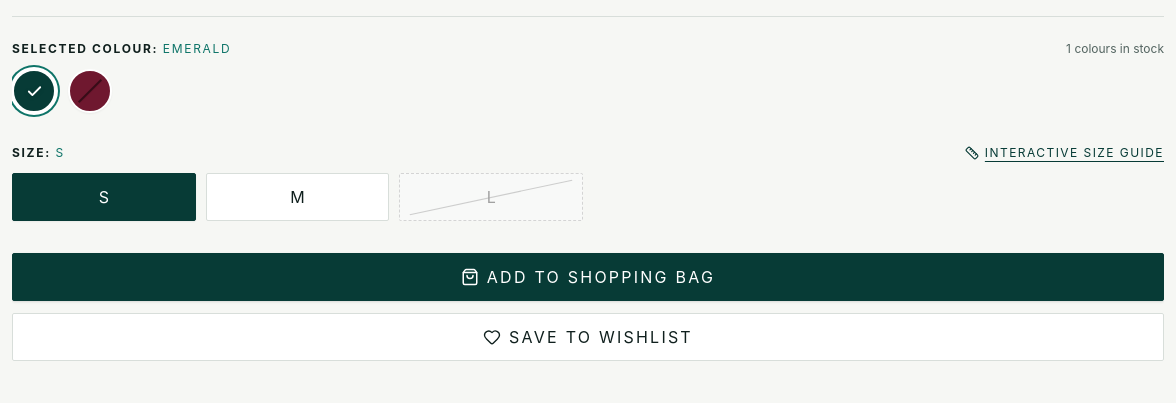
Test case: PDP Back-In-Stock Notification UX › transforms primary button to Notify me when available when sold-out size L is clicked
Click the button named "L (Out of stock - click to notify)" at (491, 197), box [399,173,583,221]
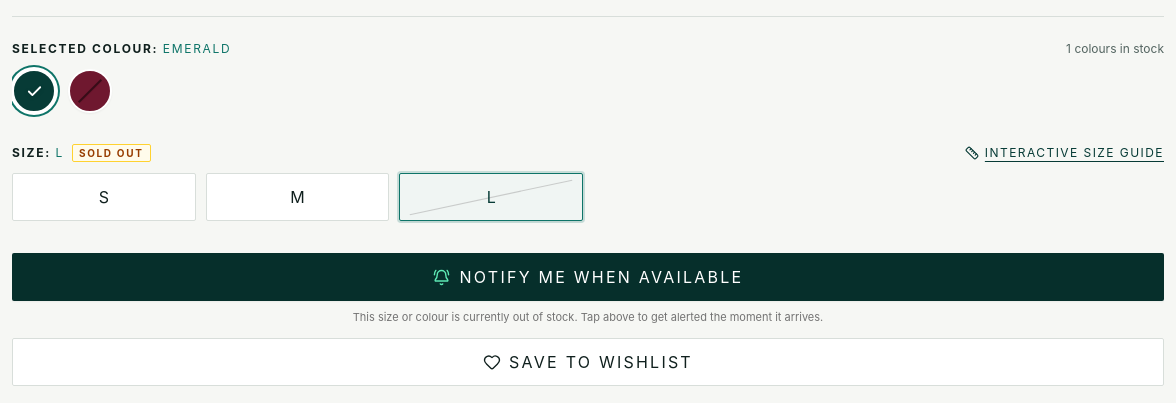
Result: the button "Add to shopping bag" is gone
Result: the button "Notify me when available" is shown at [12,253,1164,301]
Result: the text "This size or colour is currently out of stock" is shown at [353,310,823,324]
